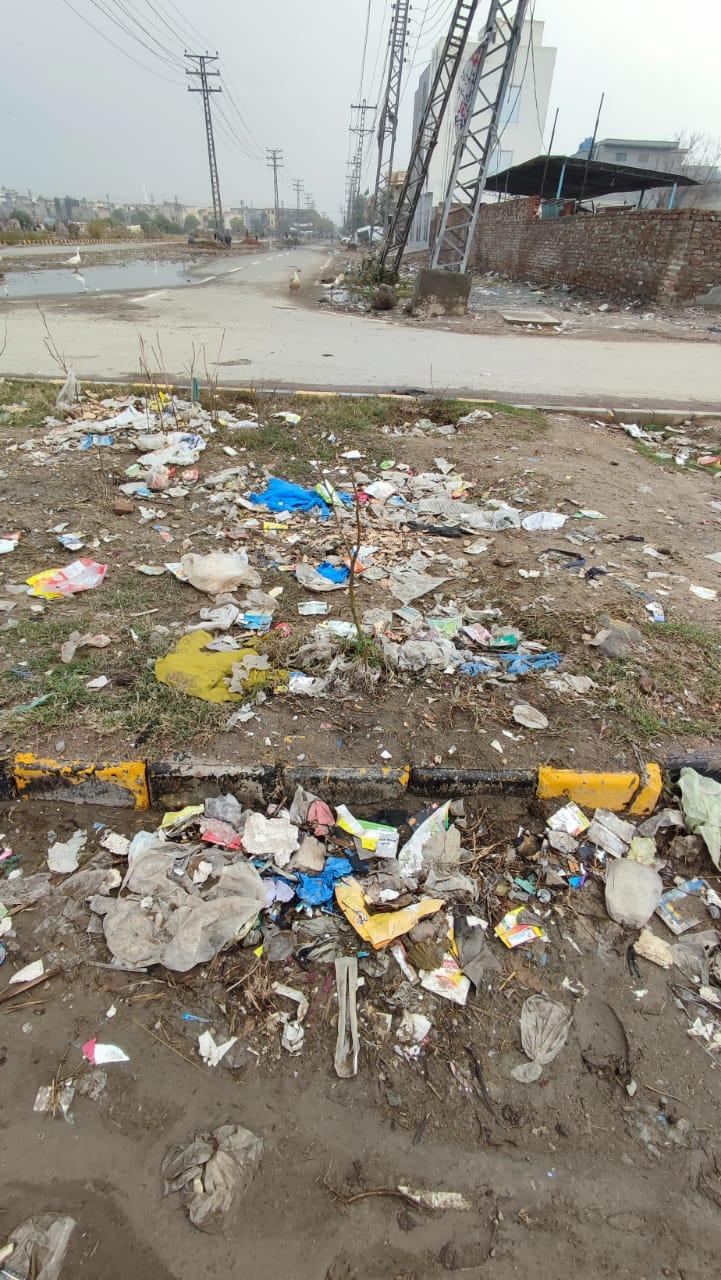garbage: (43, 370, 583, 745), (0, 786, 687, 1033)
